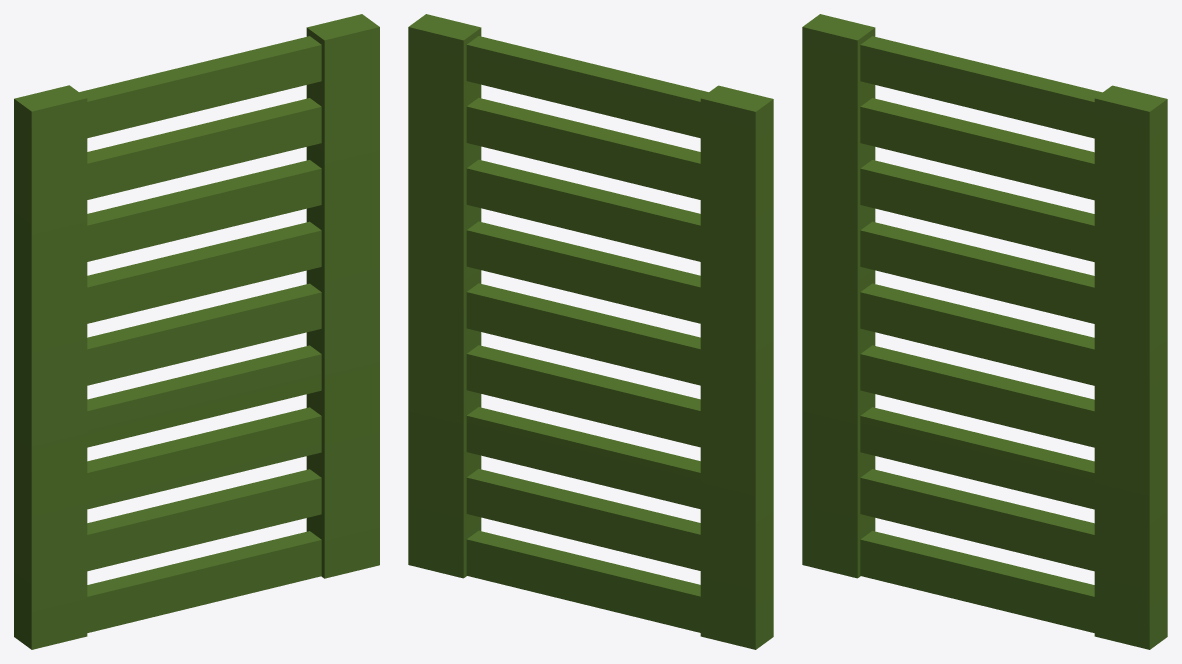
Rendered from WoodenWindowDoor.fbx.
3 renders of one model, left to right at view 1: azimuth 30°, elevation 25°; view 2: azimuth 150°, elevation 25°; view 3: azimuth 330°, elevation 25°, orthographic.
Visible parts, largest first — view 1: WindowDoorL.001; view 2: WindowDoorL.001; view 3: WindowDoorL.001.
Boxes of the visible parts, x1,y1,x2,y2 form: WindowDoorL.001: (14,14,379,649); WindowDoorL.001: (408,14,773,649); WindowDoorL.001: (802,14,1167,649).
Bounding box in the file's own units: 54.5 × 80.59 × 4.88.
